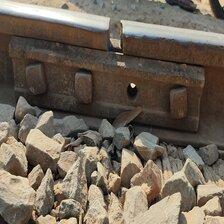railway-gap: (81, 8, 145, 66)
